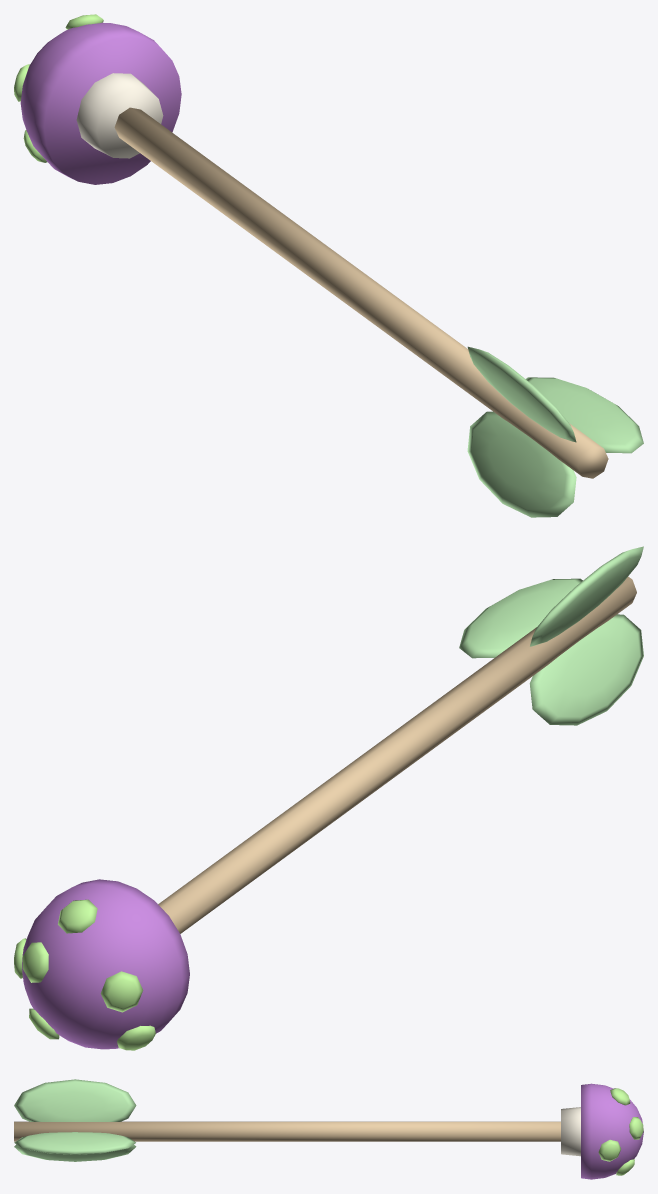
Rendered from arrow.glb.
3 renders of one model, top to bottom at view 1: azimuth 30°, elevation 25°; view 2: azimuth 150°, elevation 25°; view 3: azimuth 270°, elevation 25°, orthographic. The views are drawn at different scales.
Parts seen in each view (by area): view 1: Arrow; view 2: Arrow; view 3: Arrow.
Part boxes in pixels (x1,y1,x2,y2): Arrow: [14, 14, 643, 517]; Arrow: [14, 546, 643, 1050]; Arrow: [14, 1079, 643, 1179].
Size of the model in its own units: 0.115 by 0.11 by 0.72.
